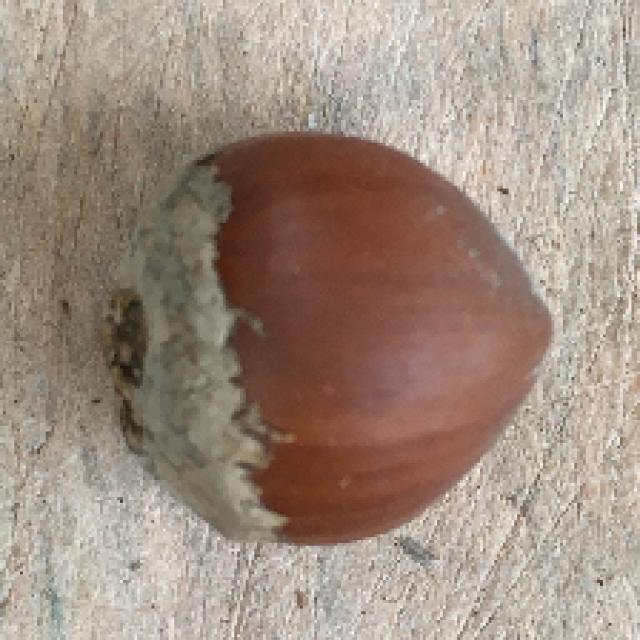damagedHazelnut: (118, 130, 552, 547)
